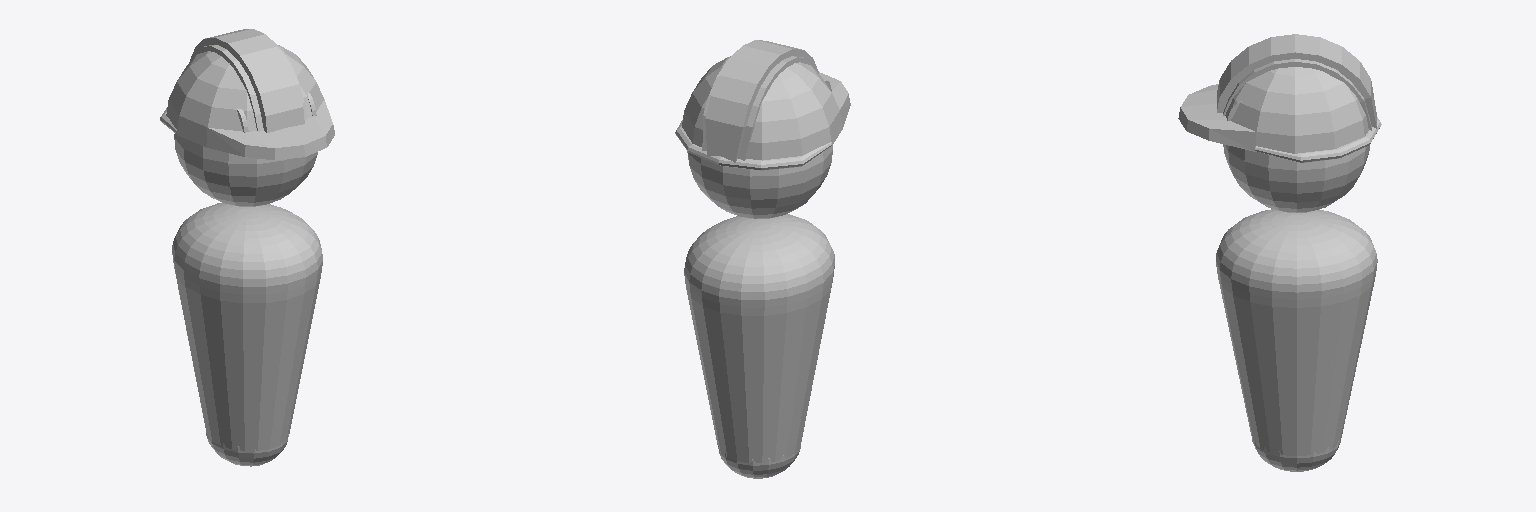
Rendered from playerModel.obj.
3 renders of one model, left to right at view 1: azimuth 30°, elevation 25°; view 2: azimuth 150°, elevation 25°; view 3: azimuth 270°, elevation 25°, orthographic.
Visible parts, largest first — view 1: body playerModel, playerModel hat; view 2: body playerModel, playerModel hat; view 3: body playerModel, playerModel hat.
Boxes of the visible parts, x1,y1,x2,y2 form: body playerModel: [172, 133, 322, 466]; playerModel hat: [160, 29, 334, 159]; body playerModel: [684, 145, 834, 478]; playerModel hat: [675, 40, 850, 170]; body playerModel: [1216, 144, 1377, 471]; playerModel hat: [1178, 34, 1381, 162].
Bounding box in the file's own units: 199 × 559 × 243.